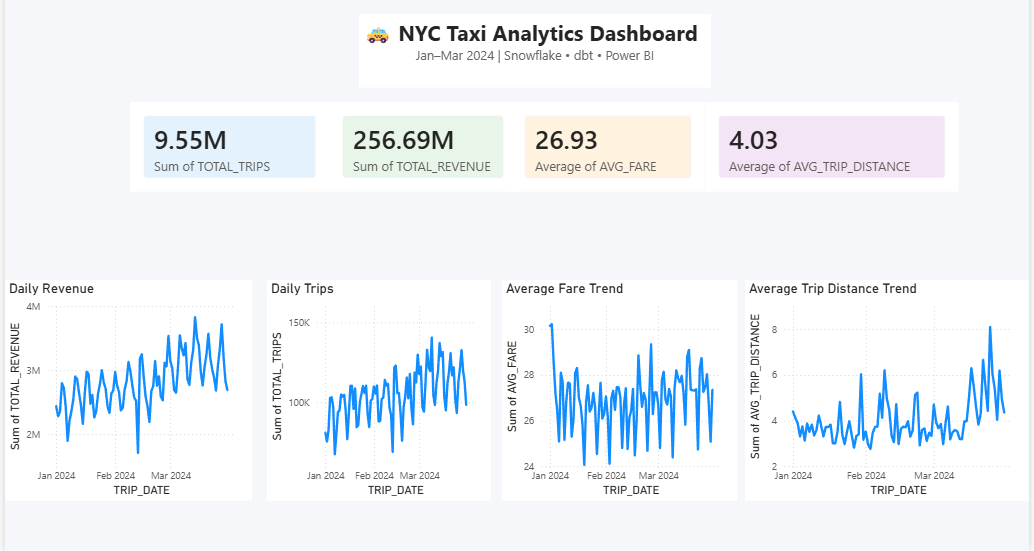

This screenshot's page, from the dashboard's own definition file:
{"tool":"powerbi","page":{"name":"Page 1","canvas":[1280,720],"ordinal":0},"visuals":[{"type":"lineChart","title":"Daily Trips","fields":{"Y":["Sum(DAILY_TAXI_METRICS.TOTAL_TRIPS)"],"Category":["DAILY_TAXI_METRICS.TRIP_DATE"]},"box":[327,380,280,276],"z":0},{"type":"lineChart","title":"Daily Revenue","fields":{"Y":["Sum(DAILY_TAXI_METRICS.TOTAL_REVENUE)"],"Category":["DAILY_TAXI_METRICS.TRIP_DATE"]},"box":[0,380,309,276],"z":1000},{"type":"lineChart","title":"Average Fare Trend","fields":{"Y":["Sum(DAILY_TAXI_METRICS.AVG_FARE)"],"Category":["DAILY_TAXI_METRICS.TRIP_DATE"]},"box":[621,380,294,276],"z":2000},{"type":"lineChart","title":"Average Trip Distance Trend","fields":{"Y":["Sum(DAILY_TAXI_METRICS.AVG_TRIP_DISTANCE)"],"Category":["DAILY_TAXI_METRICS.TRIP_DATE"]},"box":[925,380,355,276],"z":3000},{"type":"cardVisual","fields":{"Data":["Sum(DAILY_TAXI_METRICS.TOTAL_TRIPS)"]},"box":[156,158,249,112],"z":4000},{"type":"cardVisual","fields":{"Data":["Sum(DAILY_TAXI_METRICS.TOTAL_REVENUE)"]},"box":[405,158,235,112],"z":5000},{"type":"cardVisual","fields":{"Data":["Avg(DAILY_TAXI_METRICS.AVG_FARE)"]},"box":[633,158,242,112],"z":6000},{"type":"cardVisual","fields":{"Data":["Avg(DAILY_TAXI_METRICS.AVG_TRIP_DISTANCE)"]},"box":[875,158,317,112],"z":7000},{"type":"textbox","box":[442,48,440,92],"z":8000}]}

Visuals, with their boxes on the page's 1280x720 design canvas (x1, y1, x2, y2). These are canvas units, not pixel positions in the 1034x551 screenshot, which may show the page scaled, cropped or inside an application window:
"Daily Trips" lineChart: left=327, top=380, right=607, bottom=656
"Daily Revenue" lineChart: left=0, top=380, right=309, bottom=656
"Average Fare Trend" lineChart: left=621, top=380, right=915, bottom=656
"Average Trip Distance Trend" lineChart: left=925, top=380, right=1280, bottom=656
cardVisual - Sum(DAILY_TAXI_METRICS.TOTAL_TRIPS): left=156, top=158, right=405, bottom=270
cardVisual - Sum(DAILY_TAXI_METRICS.TOTAL_REVENUE): left=405, top=158, right=640, bottom=270
cardVisual - Avg(DAILY_TAXI_METRICS.AVG_FARE): left=633, top=158, right=875, bottom=270
cardVisual - Avg(DAILY_TAXI_METRICS.AVG_TRIP_DISTANCE): left=875, top=158, right=1192, bottom=270
textbox: left=442, top=48, right=882, bottom=140
